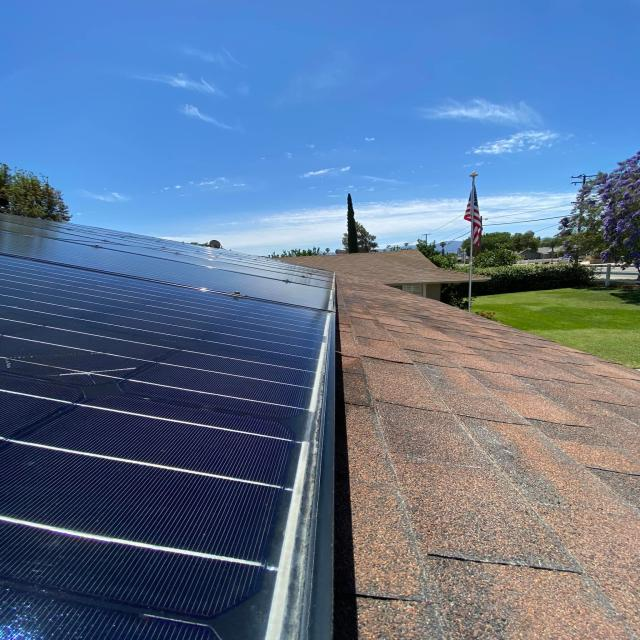clean-solar-panel: (0, 215, 335, 640)
